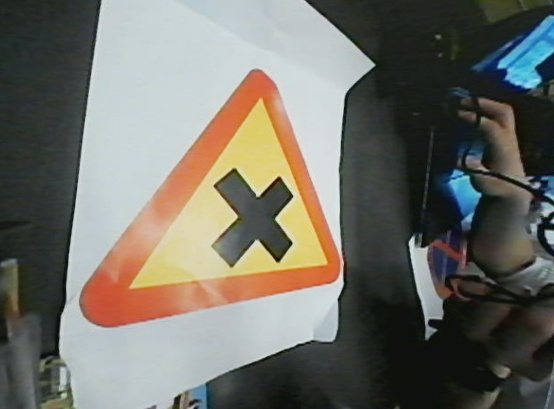junction: (44, 58, 358, 328)
